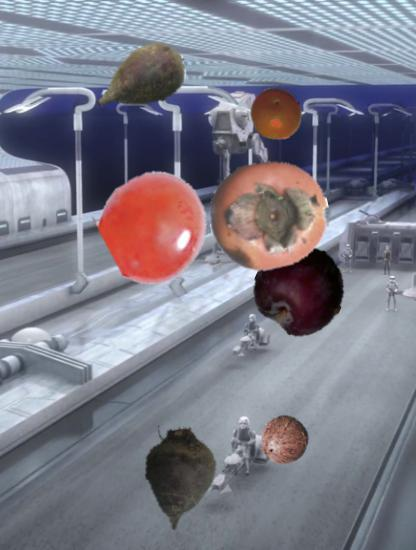Beetroot: (122, 418, 241, 537), (91, 30, 192, 131)
Cocos: (259, 415, 310, 466)
Kaki: (209, 155, 330, 276)
Plum: (254, 244, 346, 336)
Redcurrant: (100, 172, 211, 283)
Tangelo: (250, 87, 304, 141)
